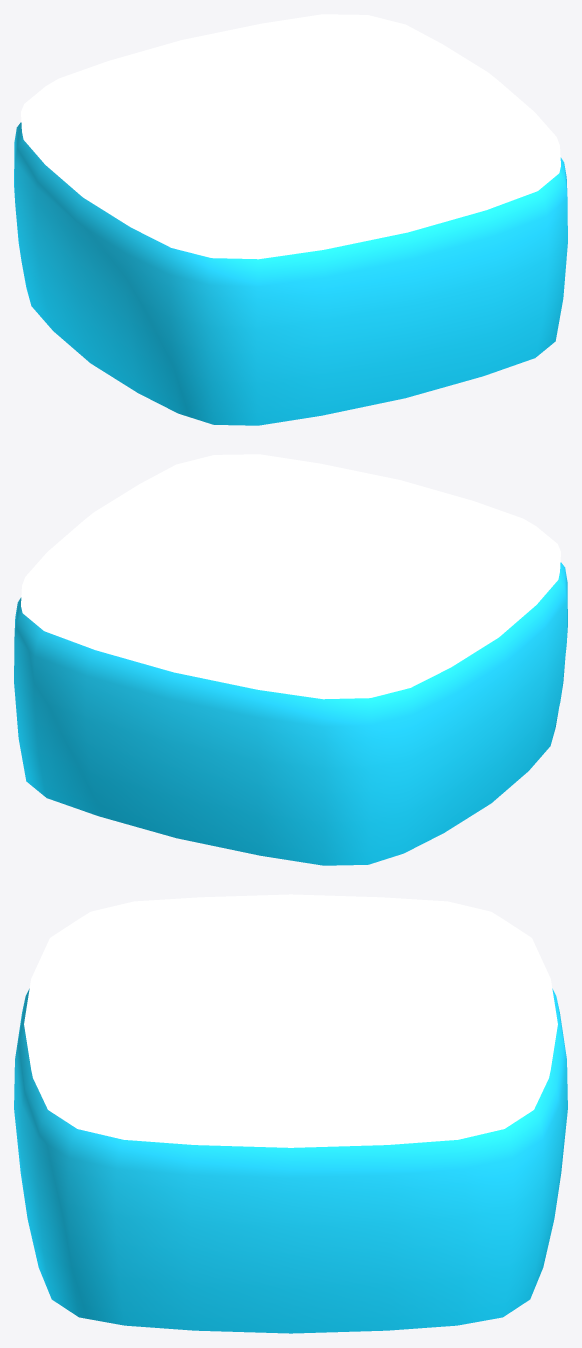
The model's file is ground_002.glb.
The picture shows the model from 3 angles, top to bottom: view 1: azimuth 30°, elevation 25°; view 2: azimuth 150°, elevation 25°; view 3: azimuth 270°, elevation 25°; orthographic projection. The views are drawn at different scales.
Parts seen in each view (by area): view 1: ground_002; view 2: ground_002; view 3: ground_002.
Part boxes in pixels (x1=…): ground_002: x1=14, y1=14, x2=567, y2=425; ground_002: x1=14, y1=454, x2=567, y2=865; ground_002: x1=14, y1=894, x2=567, y2=1333.
Size of the model in its own units: 10.01 by 4.63 by 9.87.
2 materials, 2 textured.
